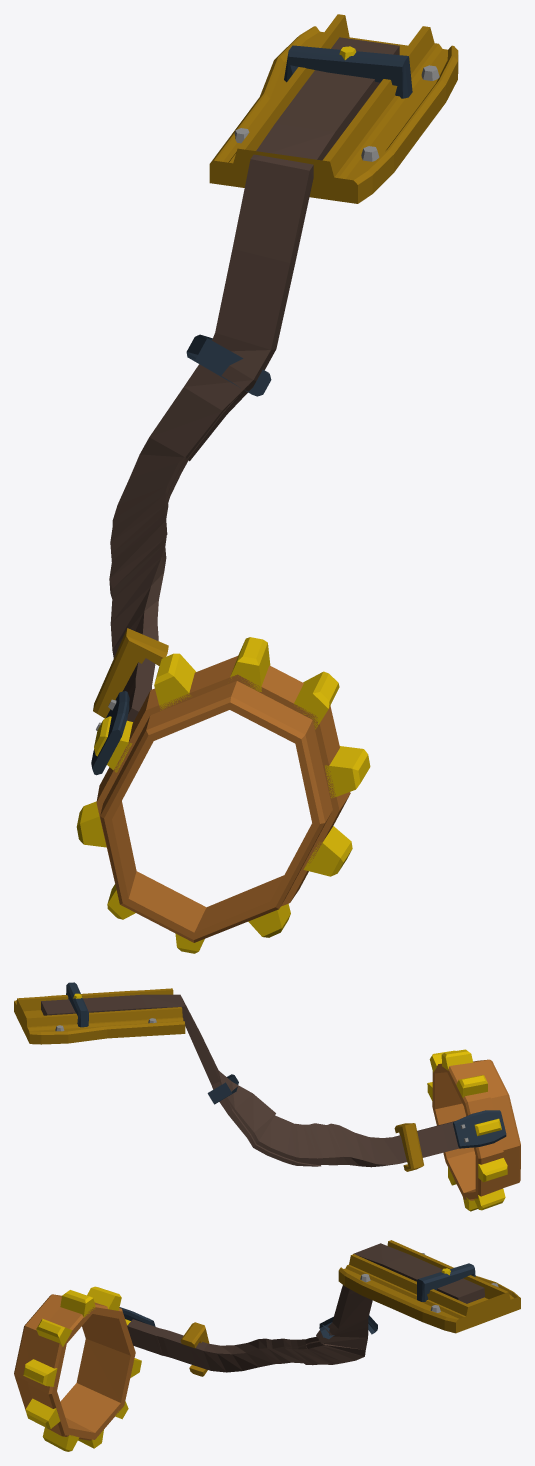
Rendered from thumb-strap-3068c5.glb.
3 renders of one model, top to bottom at view 1: azimuth 30°, elevation 25°; view 2: azimuth 150°, elevation 25°; view 3: azimuth 270°, elevation 25°, orthographic. The views are drawn at different scales.
Parts seen in each view (by area): view 1: middle-finger-metacarpal, thumb-phalanx-proximal, soft:thumb; view 2: thumb-phalanx-proximal, middle-finger-metacarpal, soft:thumb; view 3: thumb-phalanx-proximal, middle-finger-metacarpal, soft:thumb.
Part boxes in pixels (x1,y1,x2,y2): middle-finger-metacarpal: [165, 14, 458, 534]; thumb-phalanx-proximal: [76, 637, 370, 953]; soft:thumb: [93, 334, 271, 721]; thumb-phalanx-proximal: [427, 1049, 520, 1211]; middle-finger-metacarpal: [14, 982, 320, 1166]; soft:thumb: [207, 1074, 459, 1171]; thumb-phalanx-proximal: [14, 1286, 155, 1451]; middle-finger-metacarpal: [284, 1240, 520, 1365]; soft:thumb: [127, 1315, 377, 1376].
Bounding box in the file's own units: 0.0698 × 0.0533 × 0.0803.
